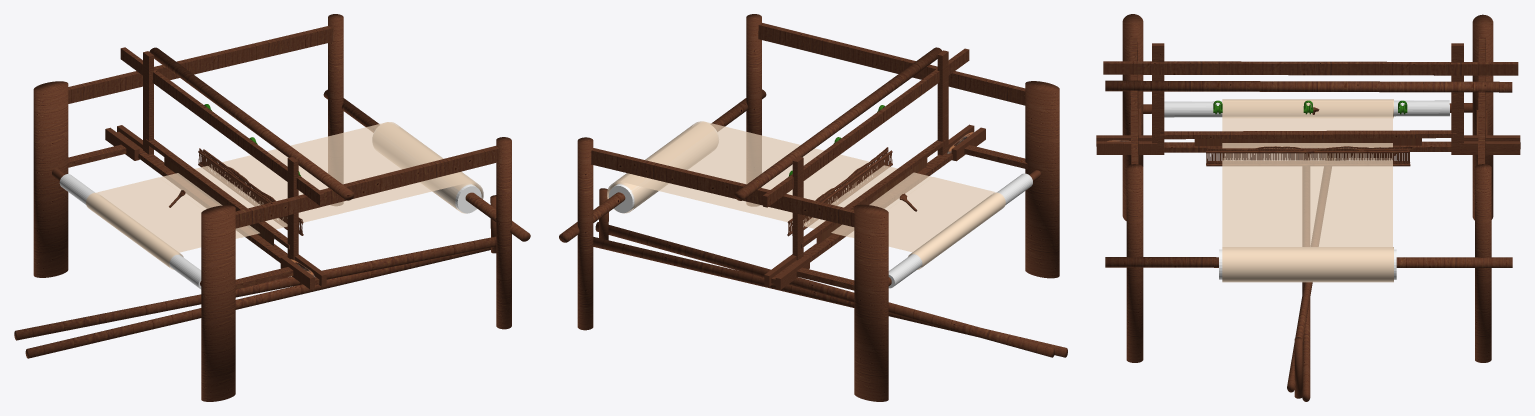
File: traditional-loom.glb
The picture shows the model from 3 angles, left to right: view 1: azimuth 30°, elevation 25°; view 2: azimuth 150°, elevation 25°; view 3: azimuth 270°, elevation 25°; orthographic projection. The views are drawn at different scales.
Parts seen in each view (by area): view 1: Cylinder; view 2: Cylinder; view 3: Cylinder.
Part boxes in pixels (x1,y1,x2,y2): Cylinder: [14, 14, 530, 401]; Cylinder: [559, 14, 1067, 401]; Cylinder: [1096, 14, 1520, 401].
Size of the model in its own units: 16.89 by 7.07 by 12.62.
Materials: 13 (7 with a texture image).
